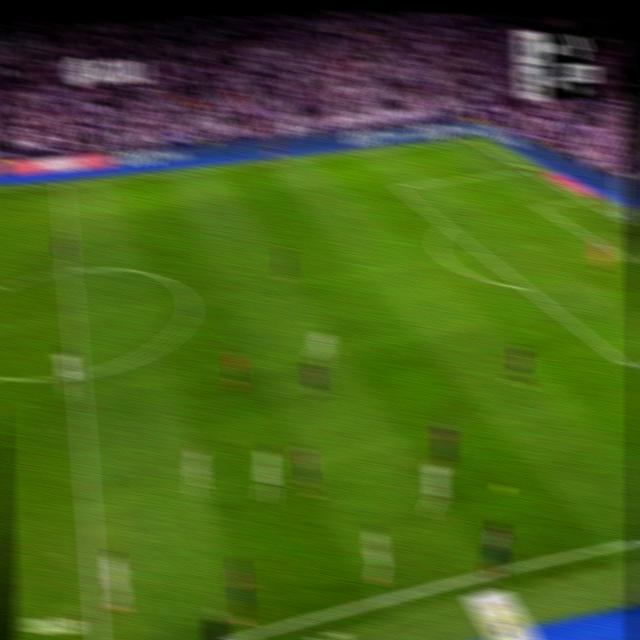bigarea_bottom_inner: (622, 355, 639, 378)
bigarea_top_inner: (392, 180, 406, 193)
bigarea_top_outter: (518, 161, 533, 175)
bottom_arc_area_intersection: (517, 278, 534, 296)
corner: (466, 135, 478, 144)
halfcircle_bottom: (69, 363, 87, 386)
halfcircle_top: (60, 260, 78, 281)
midline_top_intersection: (55, 176, 69, 192)
smallarea_top_inner: (534, 202, 545, 211)
top_arc_area_intersection: (441, 217, 455, 233)
